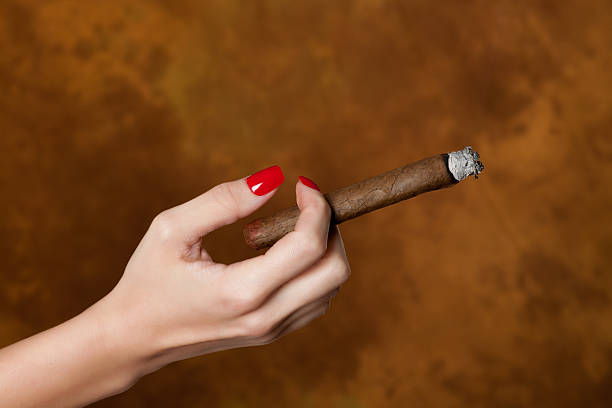cigarette: (243, 148, 482, 248)
